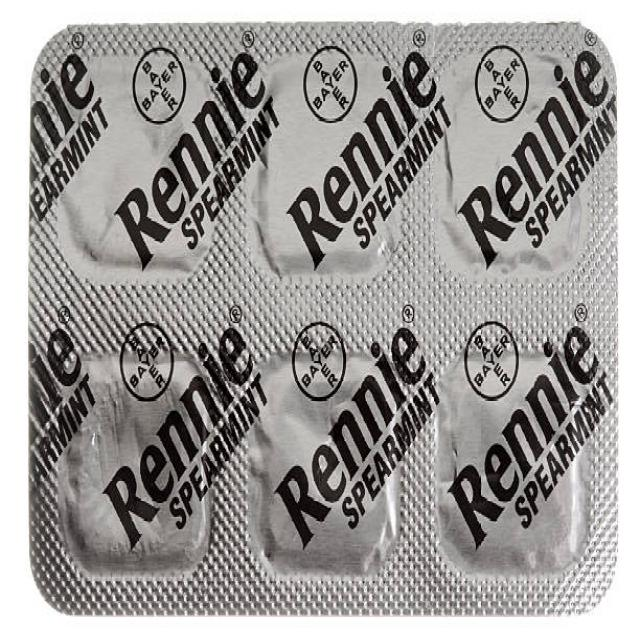Pill: (240, 328, 417, 582), (430, 326, 594, 586), (42, 44, 220, 282), (48, 332, 216, 578), (436, 34, 594, 288), (246, 42, 402, 291)
